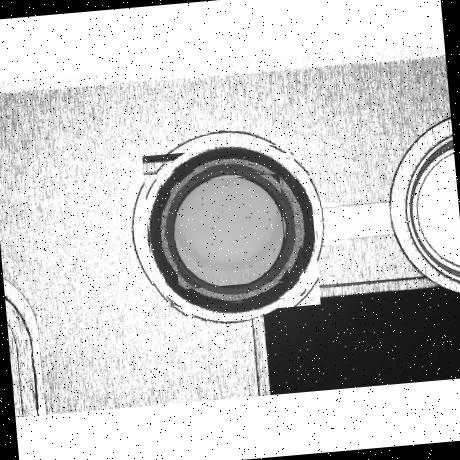Hole: (141, 141, 321, 319)
Hole2: (154, 153, 306, 307)
Hole3: (160, 162, 300, 300)
Hole4: (170, 172, 288, 290)
